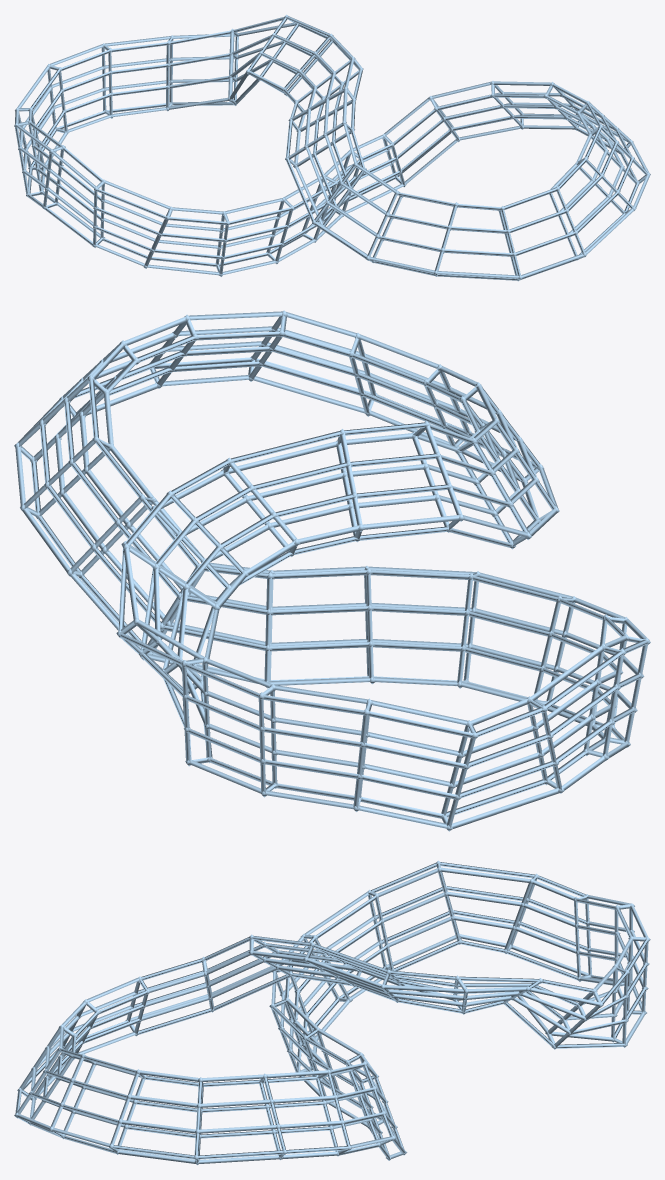
The model's file is mobiusLight.glb.
3 views of the same model, one above another, from view 1: azimuth 30°, elevation 25°; view 2: azimuth 150°, elevation 25°; view 3: azimuth 270°, elevation 25° (orthographic). The views are drawn at different scales.
Parts seen in each view (by area): view 1: mobius; view 2: mobius; view 3: mobius.
Boxes of the visible parts, x1=… form: mobius: x1=14, y1=14, x2=650, y2=281; mobius: x1=14, y1=310, x2=650, y2=831; mobius: x1=14, y1=860, x2=650, y2=1165.
Size of what is drawn, in the model's own units: 5.61 by 1.74 by 5.7.
1 material, 1 textured.
